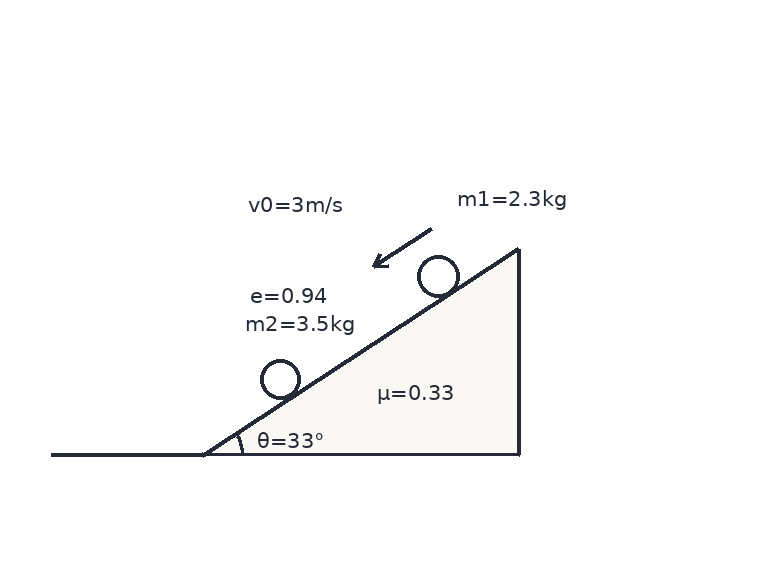ball: (415, 253, 461, 299), (258, 357, 302, 401)
ramp: (200, 247, 520, 456)
